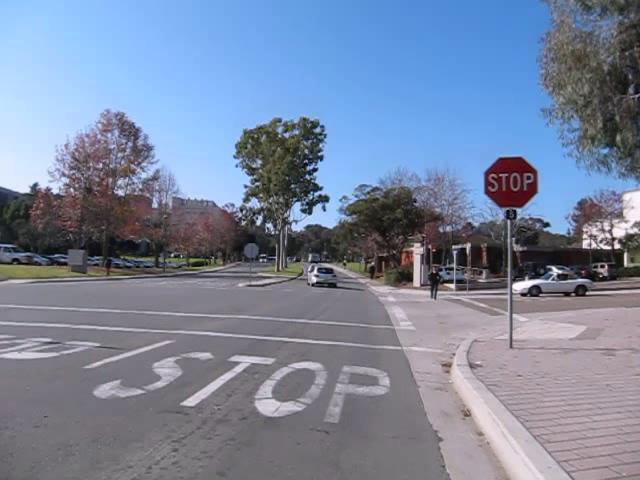stop: (483, 155, 538, 209)
